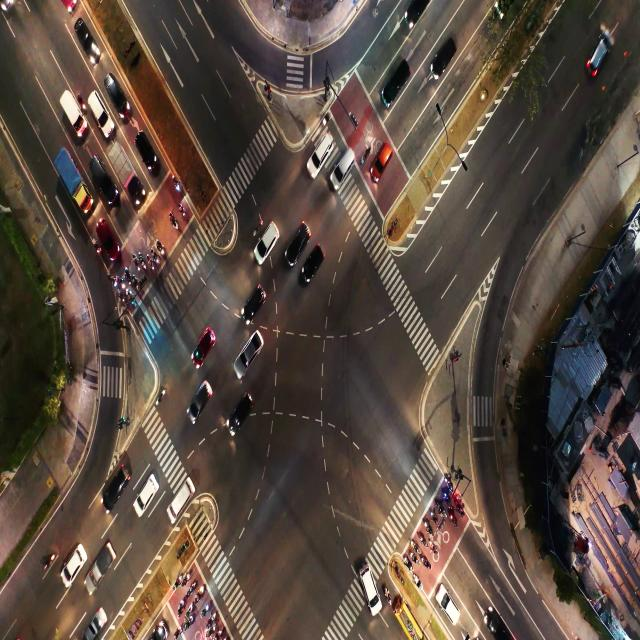bus: (402, 603, 415, 636)
car: (188, 378, 214, 417), (388, 60, 411, 96), (436, 39, 456, 75), (238, 334, 260, 364), (361, 565, 380, 597), (168, 484, 190, 511), (592, 38, 608, 74), (233, 394, 252, 424), (488, 608, 508, 633), (444, 595, 462, 621), (196, 329, 212, 358), (90, 608, 108, 633), (107, 468, 124, 494), (339, 147, 355, 173), (378, 142, 393, 168), (142, 135, 158, 159), (293, 224, 306, 251), (141, 478, 155, 503), (111, 80, 124, 106), (250, 285, 263, 310), (408, 2, 427, 19), (318, 134, 333, 155), (309, 247, 322, 270), (68, 554, 80, 576), (265, 224, 277, 244), (82, 32, 96, 48), (102, 222, 114, 240), (95, 165, 106, 183), (94, 101, 105, 118)
motorcycle: (156, 388, 166, 406), (255, 219, 264, 234), (363, 148, 371, 163), (182, 572, 190, 586), (197, 585, 205, 599), (421, 532, 428, 546), (173, 177, 180, 190), (450, 511, 456, 526), (324, 113, 332, 124), (154, 251, 160, 265), (187, 602, 193, 616), (217, 626, 224, 638), (188, 582, 196, 592), (446, 475, 452, 487), (423, 556, 429, 568), (148, 260, 154, 272), (407, 560, 414, 570), (180, 205, 187, 215), (174, 577, 181, 587), (179, 599, 184, 613), (175, 626, 182, 636), (413, 541, 419, 552), (172, 216, 178, 227), (187, 617, 193, 628), (386, 589, 391, 602), (457, 501, 462, 513), (417, 577, 422, 589), (142, 258, 147, 270), (128, 290, 134, 300), (211, 610, 216, 622), (432, 512, 437, 523), (134, 279, 139, 290), (111, 277, 116, 288), (427, 525, 433, 534), (431, 542, 436, 552), (160, 242, 164, 254), (204, 604, 210, 612), (210, 626, 216, 634), (414, 553, 418, 564), (136, 261, 140, 272), (439, 506, 444, 514), (94, 241, 99, 249), (120, 293, 124, 303), (128, 274, 131, 286), (120, 280, 124, 289), (446, 494, 450, 502)
truck: (96, 546, 111, 580), (66, 106, 82, 129), (120, 159, 132, 186), (69, 172, 81, 196)
